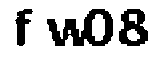0: (86, 6, 115, 49)
8: (118, 6, 153, 50)
f: (11, 5, 40, 55)
w: (45, 17, 87, 52)
